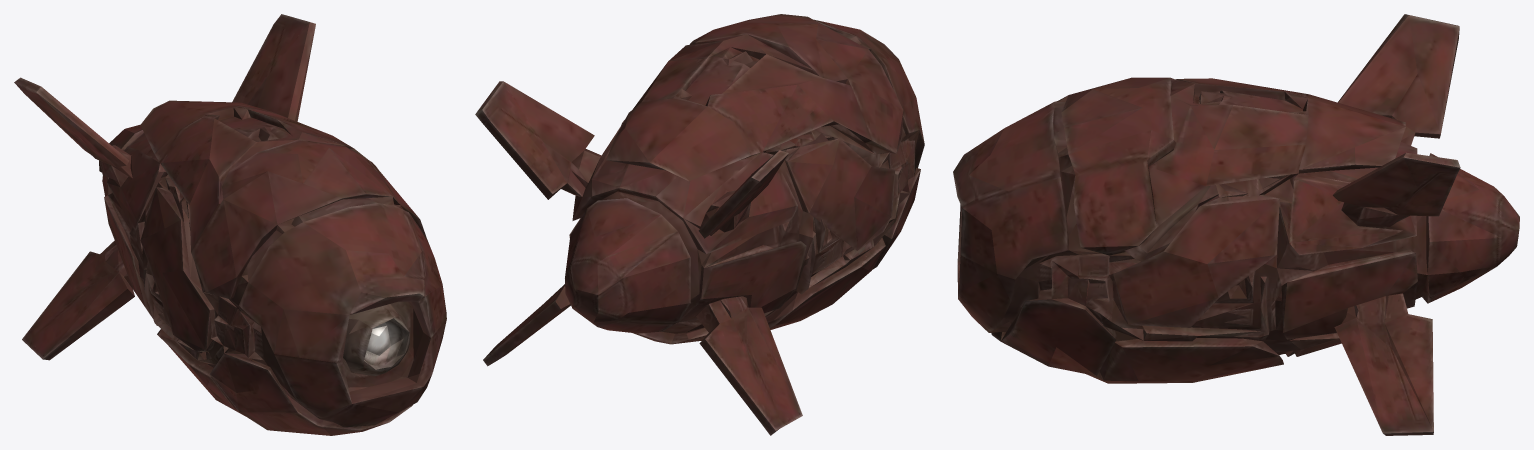
The model's file is mote.glb.
3 views of the same model, side by side, from view 1: azimuth 30°, elevation 25°; view 2: azimuth 150°, elevation 25°; view 3: azimuth 270°, elevation 25° (orthographic). The views are drawn at different scales.
Parts seen in each view (by area): view 1: Mesh_0; view 2: Mesh_0; view 3: Mesh_0.
Part boxes in pixels (x1,y1,x2,y2): Mesh_0: [14, 14, 446, 435]; Mesh_0: [475, 14, 924, 435]; Mesh_0: [953, 14, 1519, 435].
Size of the model in its own units: 0.3702 by 0.3337 by 0.6.
1 material, 1 textured.
